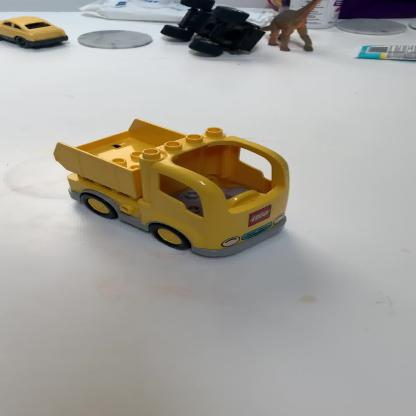yellow dump truck: (55, 117, 288, 258)
